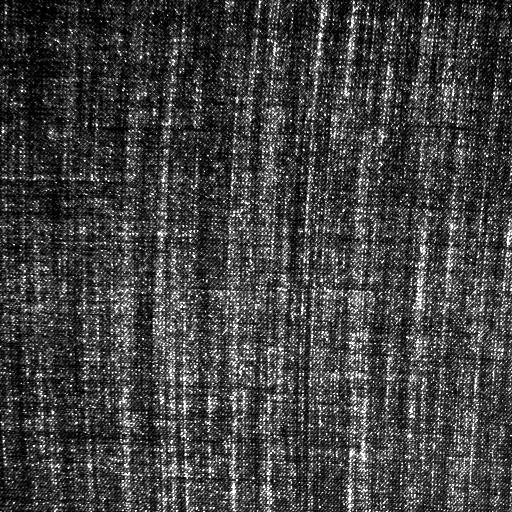fabric_perfect: (0, 6, 508, 510)
